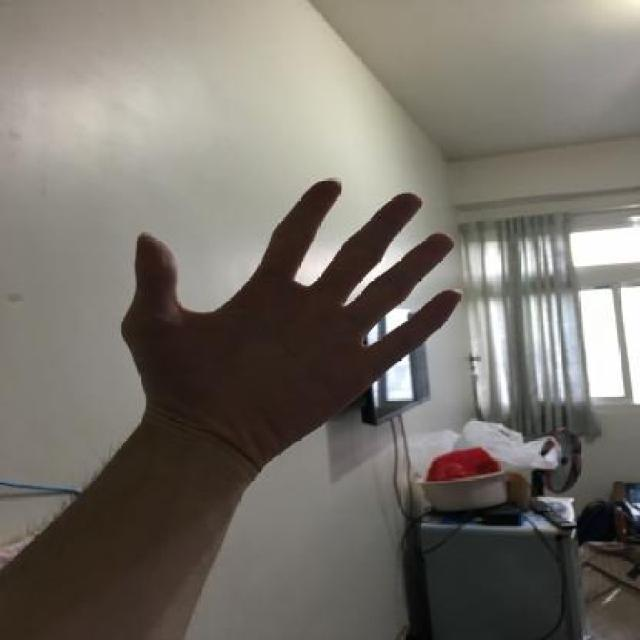bare_hand: (104, 160, 482, 465)
